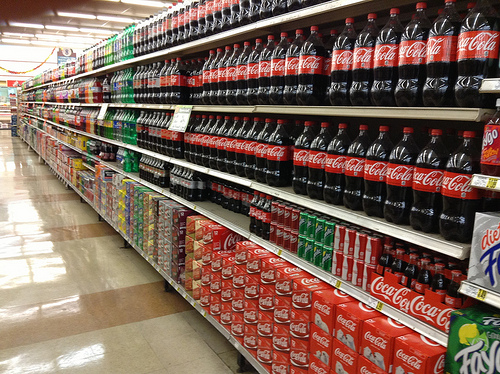coke: (381, 239, 471, 325), (457, 2, 500, 101), (445, 129, 474, 239), (414, 129, 441, 229), (385, 130, 413, 223), (430, 4, 456, 102), (399, 7, 426, 99), (366, 129, 389, 222), (374, 10, 397, 103), (329, 21, 352, 106), (397, 336, 439, 374), (357, 17, 375, 104), (365, 321, 397, 366), (347, 129, 365, 204), (293, 123, 312, 194), (303, 32, 323, 99), (327, 127, 345, 200), (270, 120, 289, 184), (347, 228, 379, 264), (338, 305, 363, 349), (204, 230, 216, 313), (229, 46, 248, 98), (365, 241, 383, 295), (256, 124, 273, 181), (313, 124, 327, 193), (317, 291, 338, 334), (285, 36, 299, 100), (292, 277, 315, 313), (191, 120, 211, 160), (311, 337, 335, 366), (247, 41, 259, 97), (251, 193, 267, 235), (347, 259, 370, 287), (274, 39, 285, 97), (222, 119, 235, 167), (235, 125, 247, 174), (258, 309, 278, 338), (291, 311, 310, 341), (257, 282, 274, 315), (262, 40, 272, 96), (290, 343, 310, 371), (277, 297, 295, 328), (212, 118, 224, 164), (255, 340, 276, 366), (331, 355, 359, 374), (249, 248, 266, 276), (266, 256, 281, 286), (173, 68, 187, 100), (245, 125, 254, 174), (207, 2, 222, 29), (203, 57, 213, 96), (275, 346, 290, 371), (279, 267, 292, 295), (159, 62, 170, 95), (179, 3, 189, 39), (220, 282, 235, 305), (221, 305, 235, 329), (335, 225, 346, 255), (221, 52, 228, 98), (189, 1, 198, 36), (161, 116, 170, 151), (171, 7, 180, 41), (331, 250, 341, 280), (234, 241, 247, 264), (245, 297, 255, 323), (220, 259, 233, 278), (213, 52, 218, 95)
